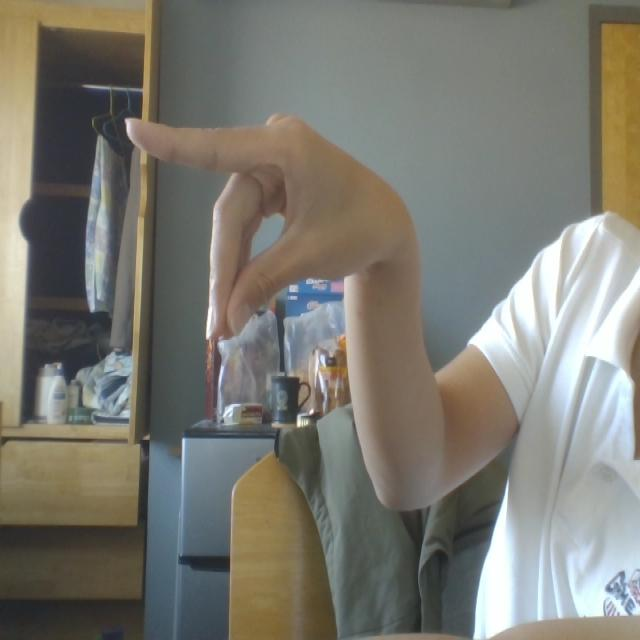P: (98, 63, 431, 342)
